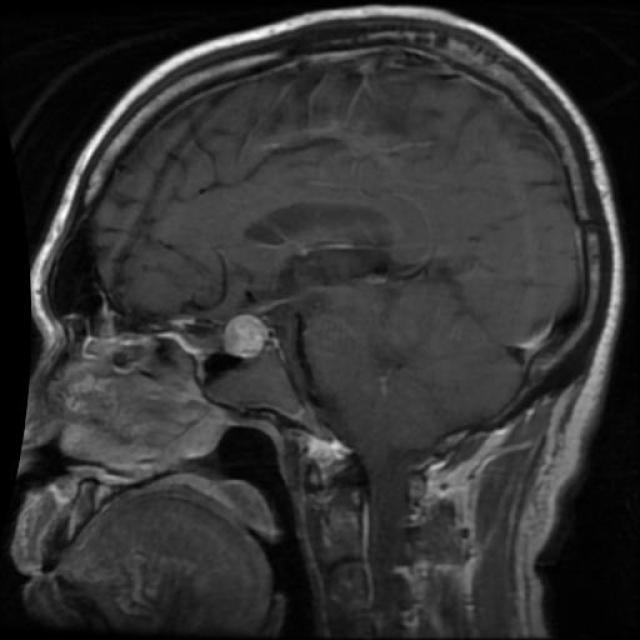pituitary: (216, 303, 280, 379)
